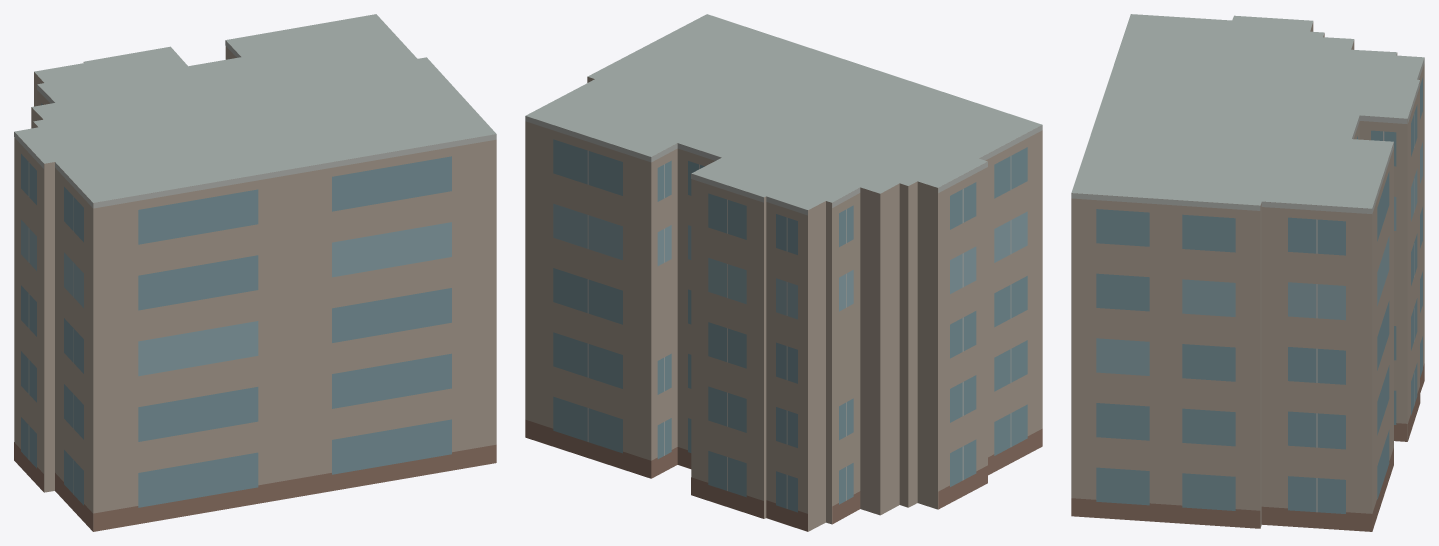
File: survey-upis-32655612.glb
3 views of the same model, side by side, from view 1: azimuth 30°, elevation 25°; view 2: azimuth 150°, elevation 25°; view 3: azimuth 270°, elevation 25° (orthographic). The views are drawn at different scales.
Visible parts, largest first — view 1: survey-upis-32655612.tmp; view 2: survey-upis-32655612.tmp; view 3: survey-upis-32655612.tmp.
Part boxes in pixels (bbox=[...]): survey-upis-32655612.tmp: bbox=[14, 14, 496, 531]; survey-upis-32655612.tmp: bbox=[525, 14, 1042, 531]; survey-upis-32655612.tmp: bbox=[1071, 14, 1424, 531].
Size of the model in its own units: 18.75 by 14.5 by 14.37.
